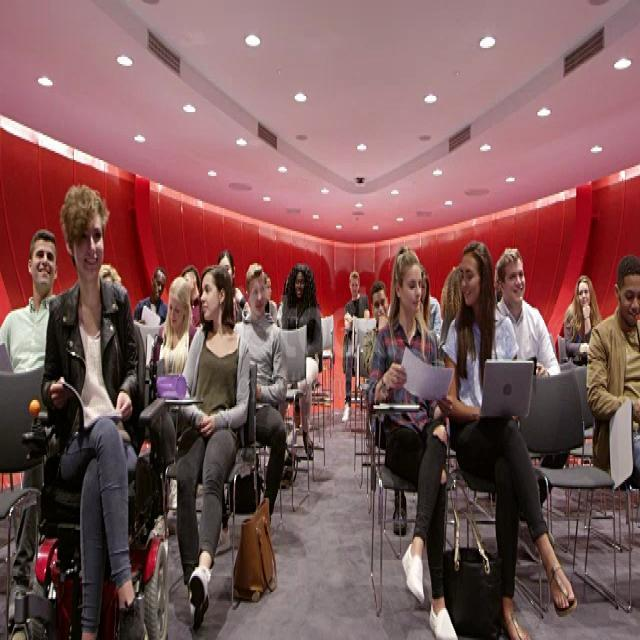Looking away: (458, 254, 482, 308), (619, 274, 640, 324), (401, 265, 421, 315), (199, 271, 217, 320), (168, 290, 185, 328)
Looking forward: (74, 215, 104, 279), (31, 239, 56, 289), (501, 262, 526, 306), (248, 273, 266, 318), (373, 288, 389, 324), (152, 268, 166, 302), (578, 282, 592, 310), (294, 270, 306, 300), (350, 273, 360, 298)
